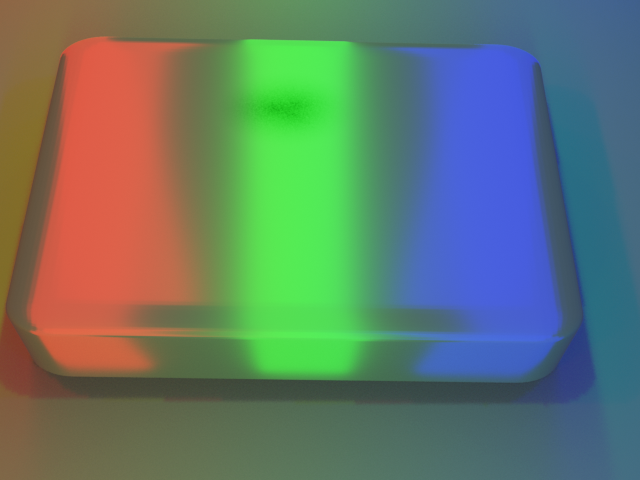stain: (181, 38, 391, 150)
